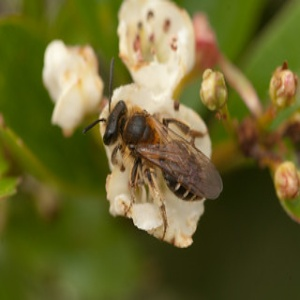bee: (100, 97, 225, 207)
